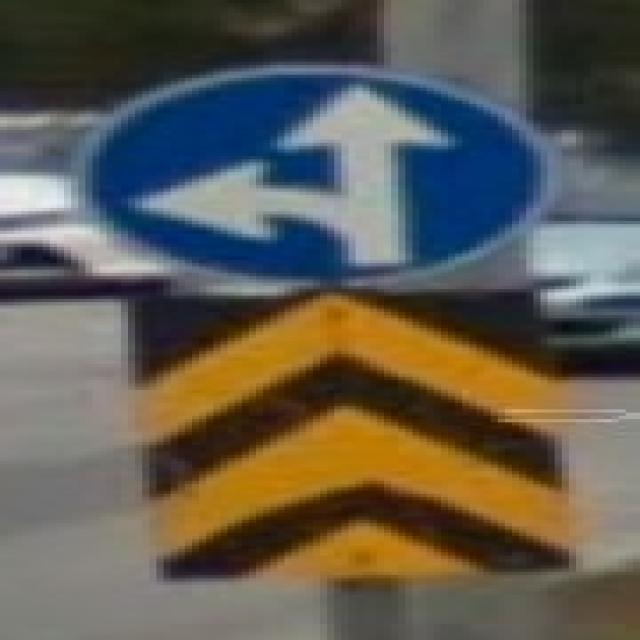Straight or Left: (83, 66, 552, 287)
